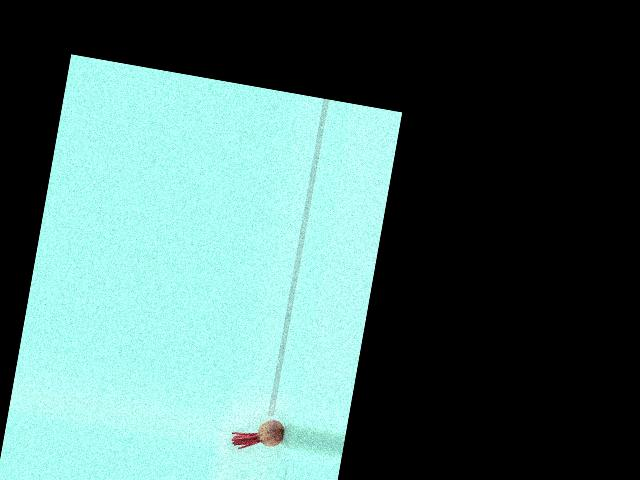beet: (229, 412, 285, 456)
